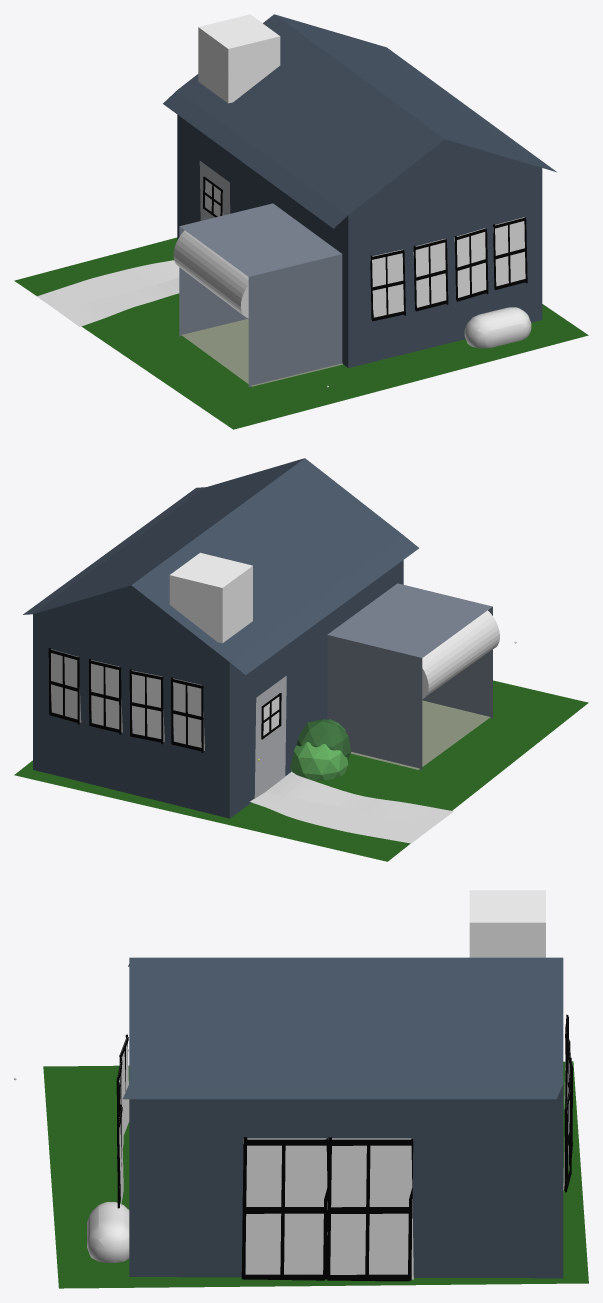
The model's file is katy's house1.fbx.
3 views of the same model, one above another, from view 1: azimuth 30°, elevation 25°; view 2: azimuth 150°, elevation 25°; view 3: azimuth 270°, elevation 25° (orthographic). The views are drawn at different scales.
Parts seen in each view (by area): view 1: Cube, Plane, garage, Plane.014, Plane.003, Cylinder, Plane.002, Mball, Plane.013, Plane.012, Plane.010, Plane.011 (+2 smaller); view 2: Cube, garage, Plane, Plane.014, Plane.003, Cylinder, Cube.004, Plane.002, Plane.001, Icosphere, Plane.006, Plane.007 (+3 smaller); view 3: Cube, Plane, Plane.009, Plane.008, Plane.003, Mball, Cube.004, Cube.046, Cube.035, Cube.044, Cube.038, Cube.043 (+5 smaller).
Part boxes in pixels (x1,y1,x2,y2): Cube: (163, 14, 556, 367); Plane: (14, 237, 588, 429); garage: (179, 203, 342, 386); Plane.014: (37, 260, 179, 326); Plane.003: (198, 14, 280, 216); Cylinder: (173, 230, 248, 318); Plane.002: (181, 318, 342, 386); Mball: (464, 307, 531, 348); Plane.013: (370, 249, 403, 317); Plane.012: (413, 238, 446, 307); Plane.010: (493, 217, 525, 286); Plane.011: (454, 228, 486, 297); Cube: (23, 458, 418, 818); garage: (327, 583, 492, 769); Plane: (14, 680, 588, 861); Plane.014: (250, 771, 453, 843); Plane.003: (169, 552, 279, 735); Cylinder: (422, 610, 499, 699); Cube.004: (179, 555, 242, 638); Plane.002: (350, 700, 490, 769); Plane.001: (254, 676, 286, 798); Icosphere: (290, 742, 348, 780); Plane.006: (131, 670, 164, 742); Plane.007: (173, 678, 204, 750); Cube: (123, 957, 563, 1278); Plane: (43, 1061, 588, 1288); Plane.009: (328, 1138, 413, 1279); Plane.008: (243, 1138, 327, 1274); Plane.003: (469, 890, 545, 957); Mball: (87, 1202, 129, 1262); Cube.004: (469, 896, 545, 916); Cube.046: (326, 1137, 331, 1279); Cube.035: (241, 1137, 247, 1279); Cube.044: (327, 1274, 409, 1281); Cube.038: (246, 1207, 326, 1213); Cube.043: (331, 1207, 411, 1213).
Size of the model in its own units: 1431 by 877 by 1506.
